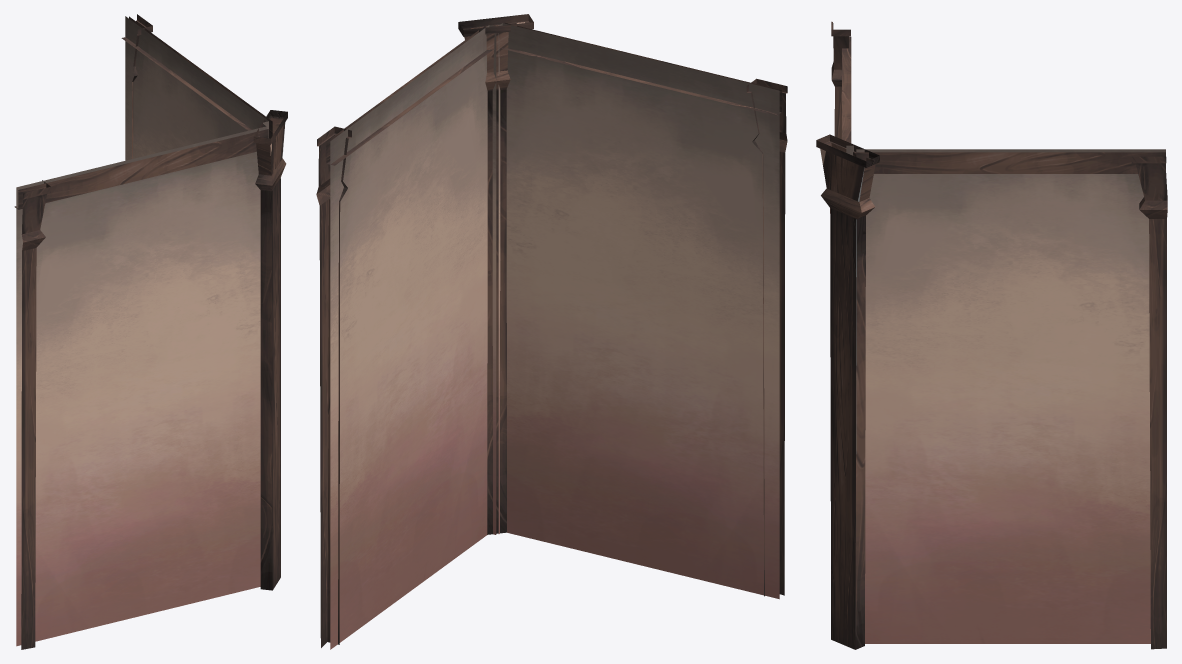
File: Wall_Top_Outer_Corner_LOD1.fbx
3 views of the same model, side by side, from view 1: azimuth 30°, elevation 25°; view 2: azimuth 150°, elevation 25°; view 3: azimuth 270°, elevation 25° (orthographic). The views are drawn at different scales.
Visible parts, largest first — view 1: Outer_Corner_Wall_Top_LOD1; view 2: Outer_Corner_Wall_Top_LOD1; view 3: Outer_Corner_Wall_Top_LOD1.
Part boxes in pixels (left/top/right/bottom): Outer_Corner_Wall_Top_LOD1: left=14, top=14, right=287, bottom=649; Outer_Corner_Wall_Top_LOD1: left=316, top=14, right=787, bottom=649; Outer_Corner_Wall_Top_LOD1: left=816, top=21, right=1167, bottom=649.
Bounding box in the file's own units: 0.0269 × 0.042 × 0.0271.
